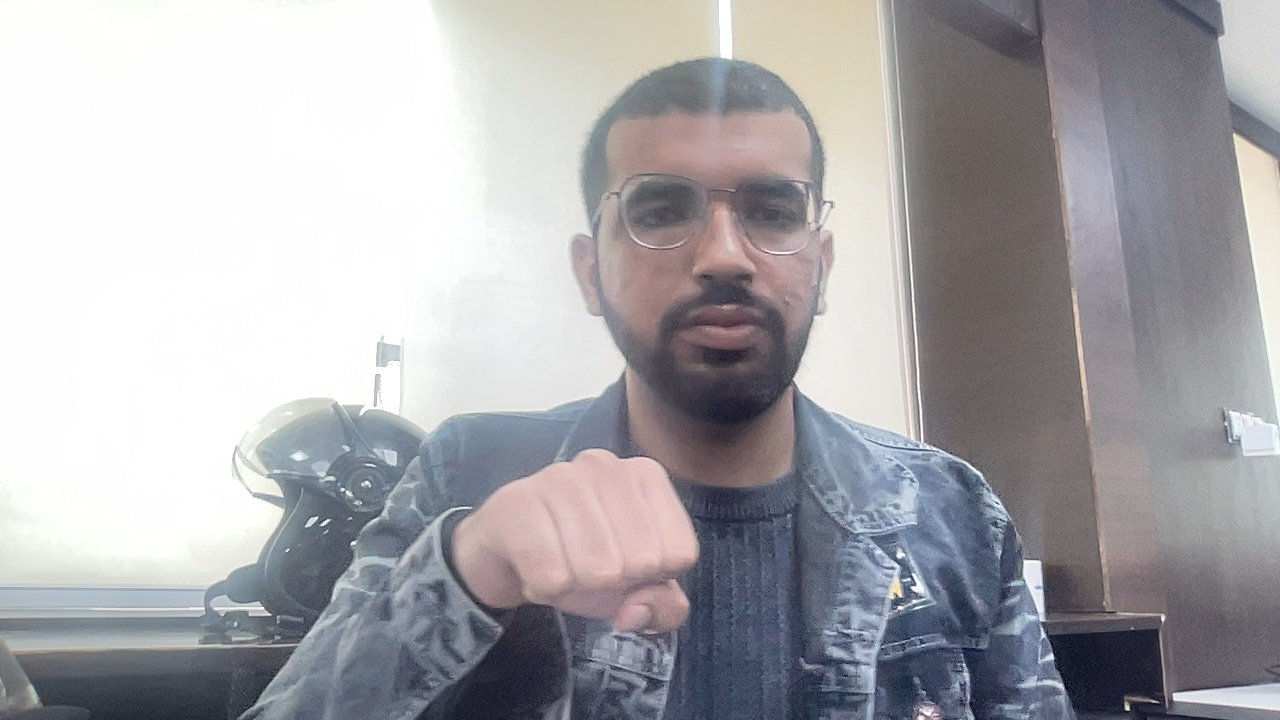Yes: (393, 398, 729, 661)
